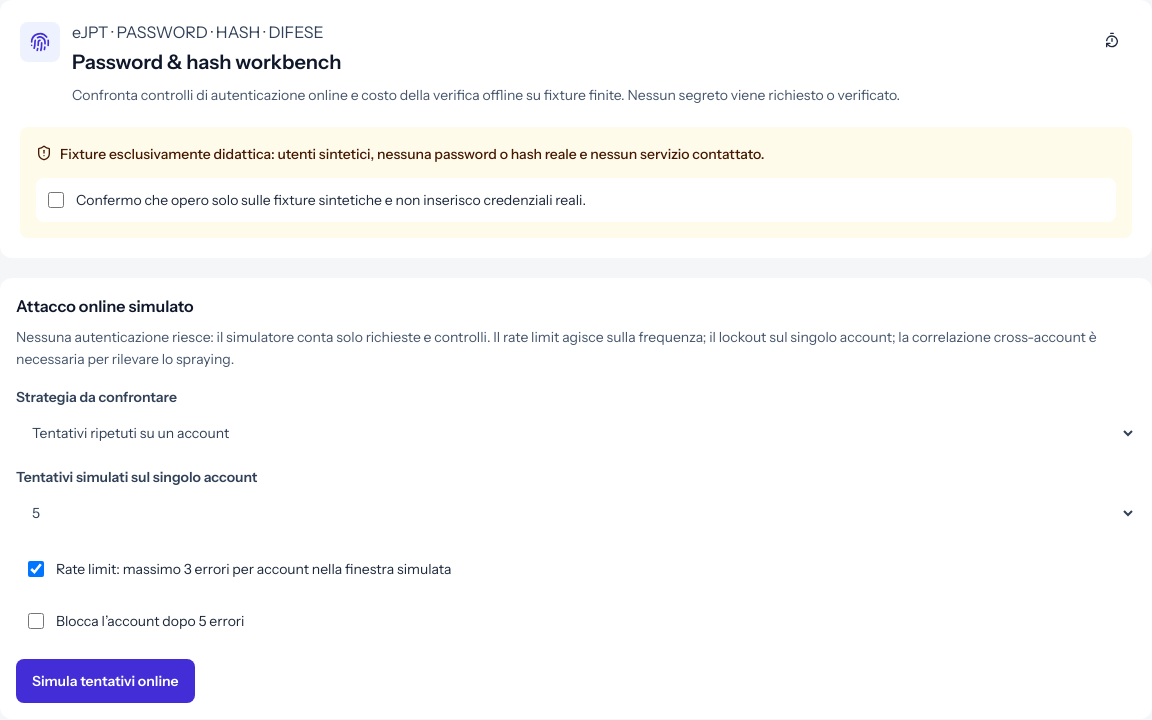
Scenario: PasswordHashLab › correlates distributed spray failures while individual thresholds remain clear
Click the checkbox labelled "Confermo che opero solo sulle fixture" at (56, 200), box [48,192,64,208]
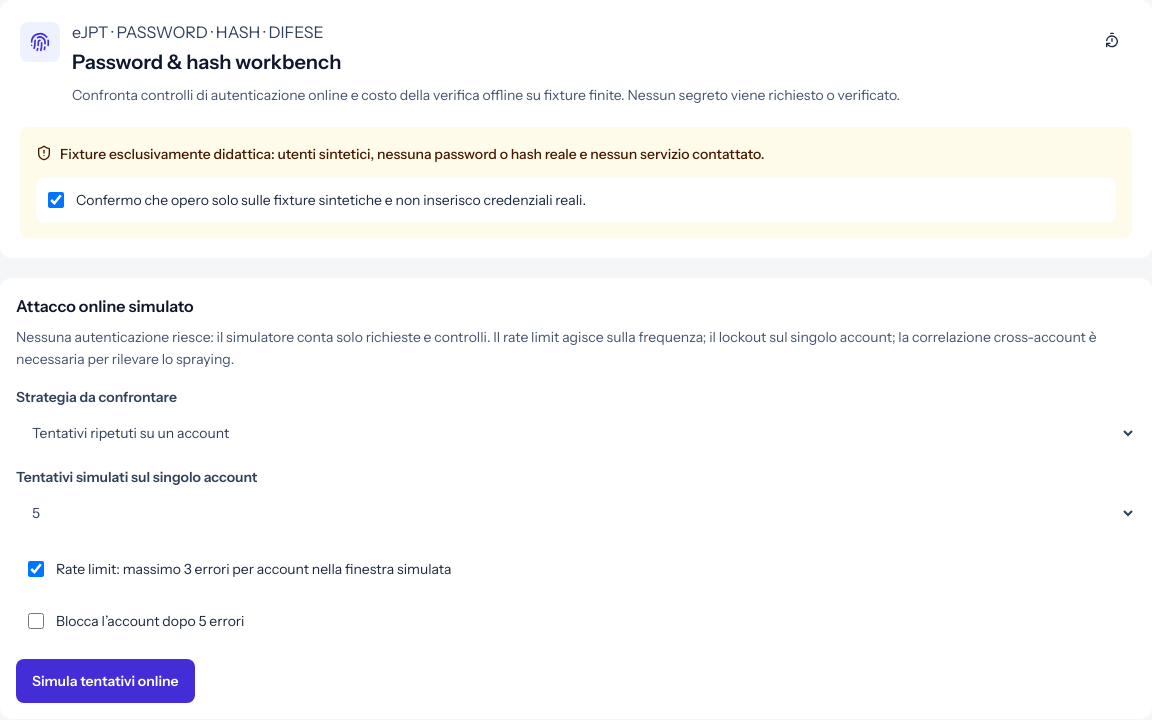
Select "Un tentativo su account distinti (spraying)" in the dropdown labelled "Strategia da confrontare" at (576, 433), box [16,411,1136,455]
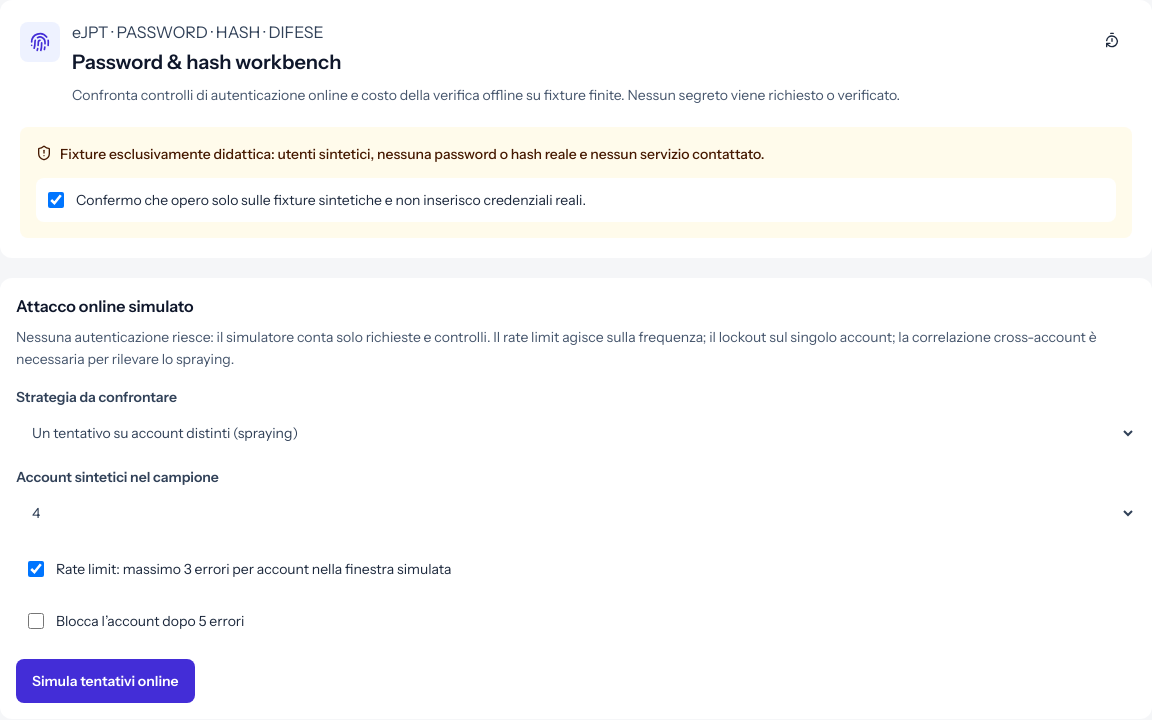
Select "5" in the dropdown labelled "Account sintetici nel campione" at (576, 513), box [16,491,1136,535]
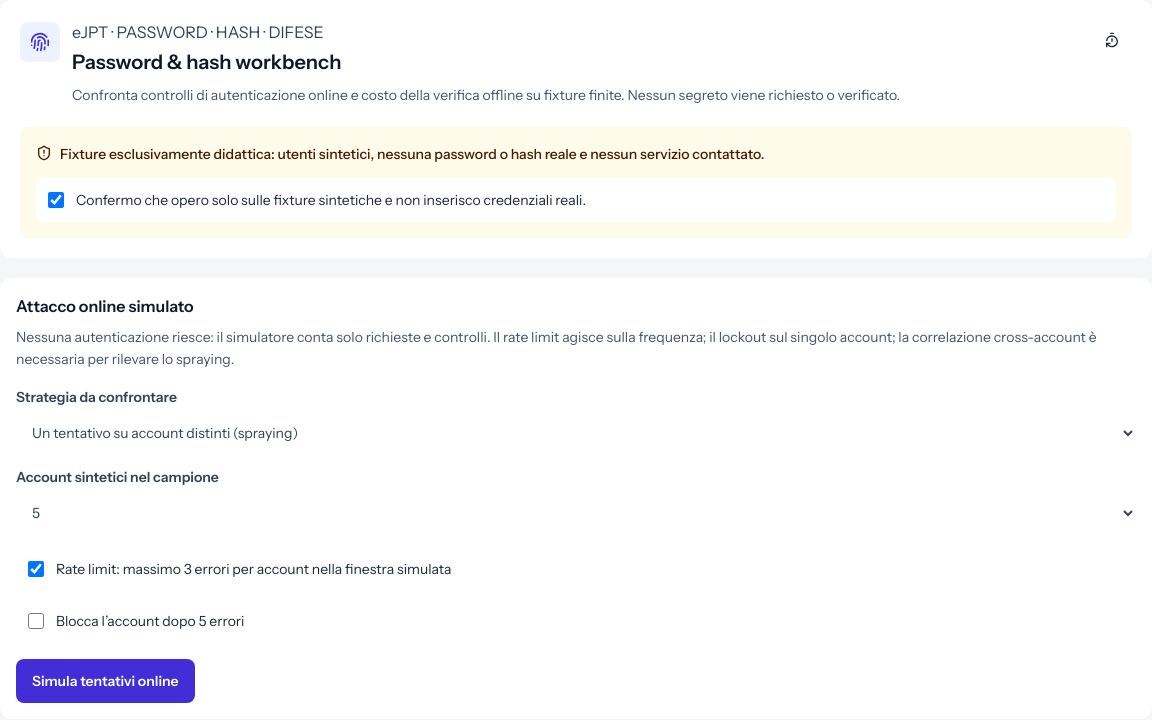
Click the checkbox labelled "Blocca l’account dopo 5 errori" at (36, 621), box [28,613,44,629]
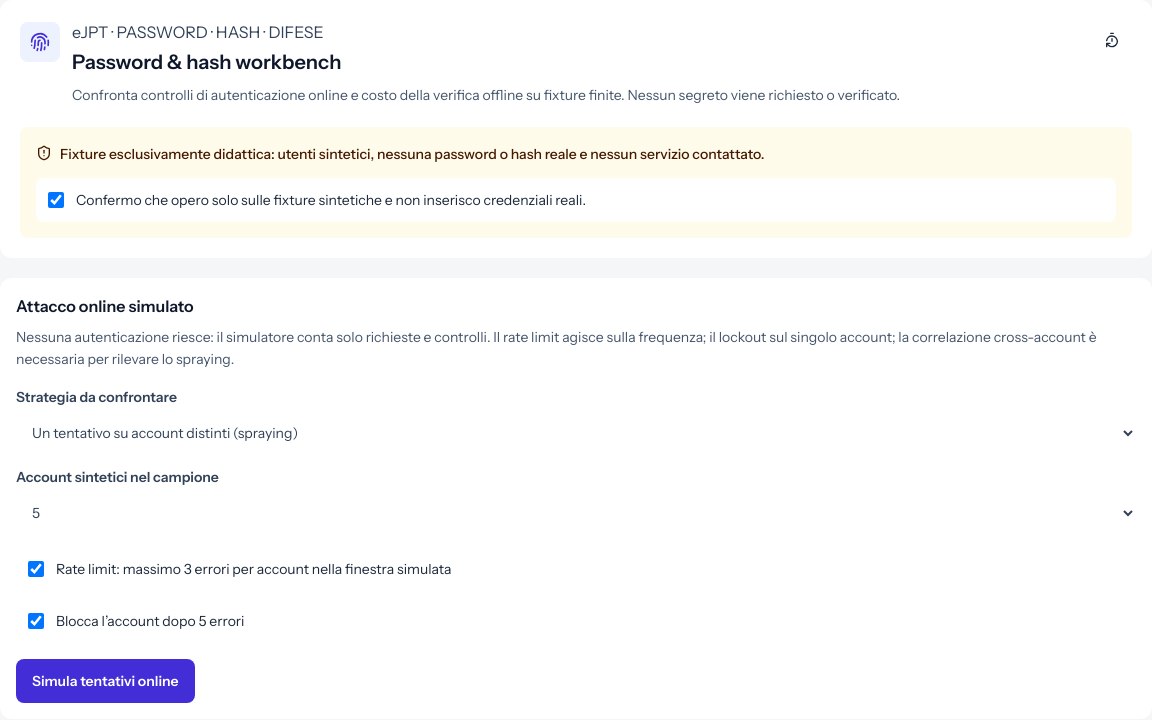
Click the button "Simula tentativi online" at (105, 681), box [16,659,195,703]
(page scrolled)
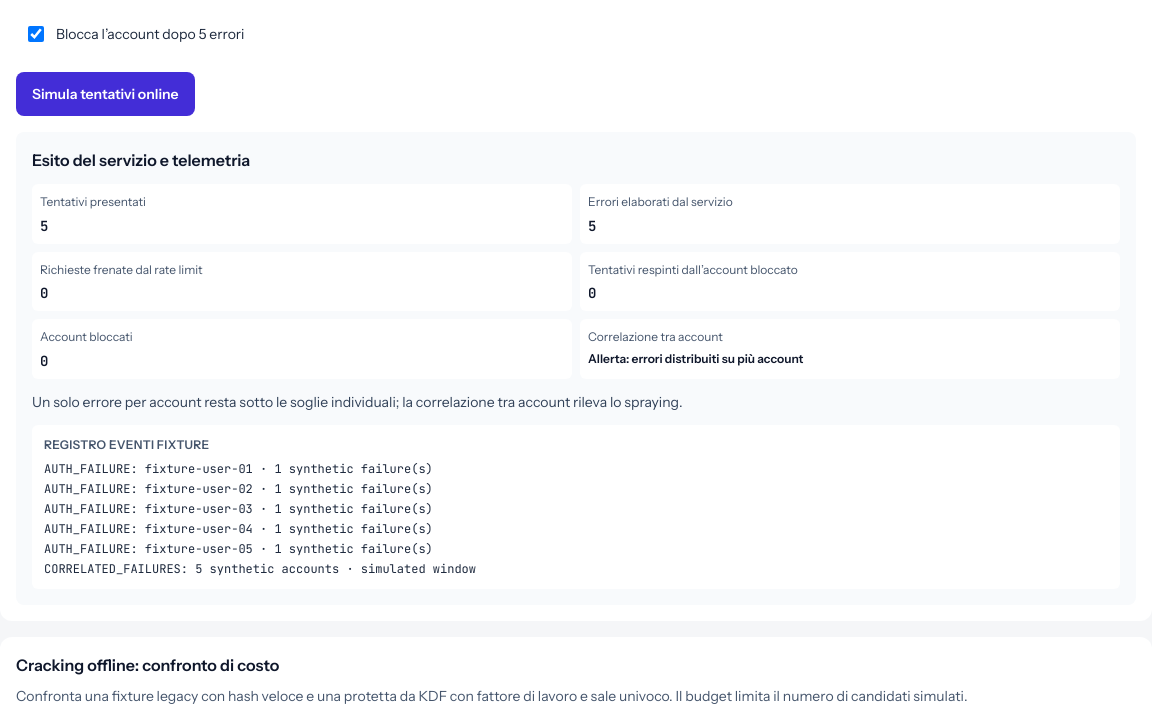
Expected: the text "Allerta: errori distribuiti su più account" is shown, [588,350,803,366]
Expected: the list item "CORRELATED_FAILURES: 5 synthetic accounts · simulated window" is shown, [44,561,476,577]
Expected: the text "0" below "Account bloccati" is shown, [40,352,48,370]
